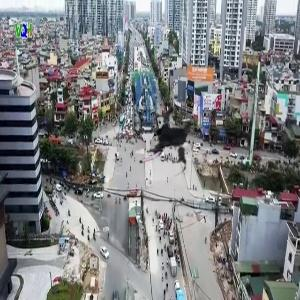drone: (122, 99, 205, 182)
